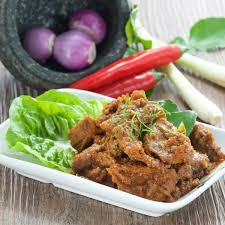rendang: (6, 82, 225, 205)
